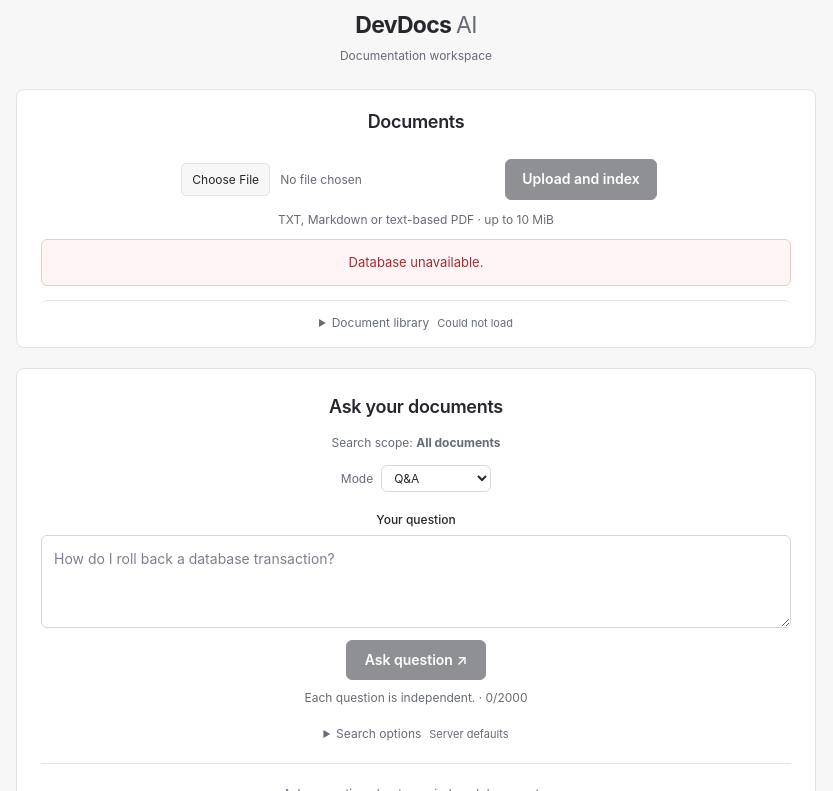
Test case: documentation workspace › recovers from a library load failure
The width and height of the screenshot is (833, 791).
Expected: the message shows "Database unavailable", left=349, top=254, right=483, bottom=270
Click the heading "Document library": x=422, y=322 left=332, top=315, right=513, bottom=330
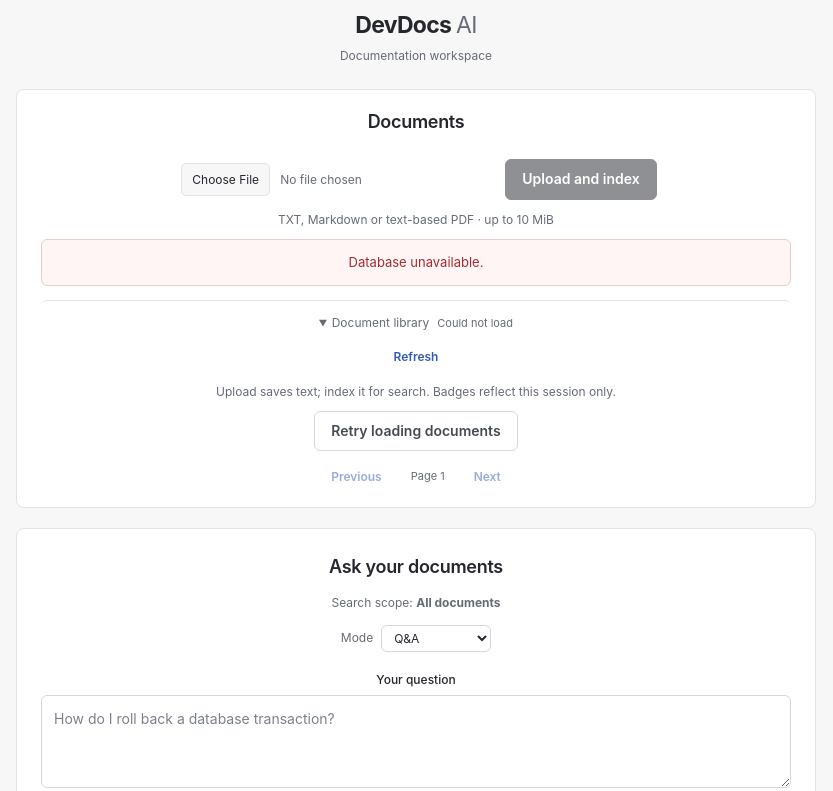
Click the button "Retry loading documents": x=416, y=431 left=314, top=411, right=518, bottom=451
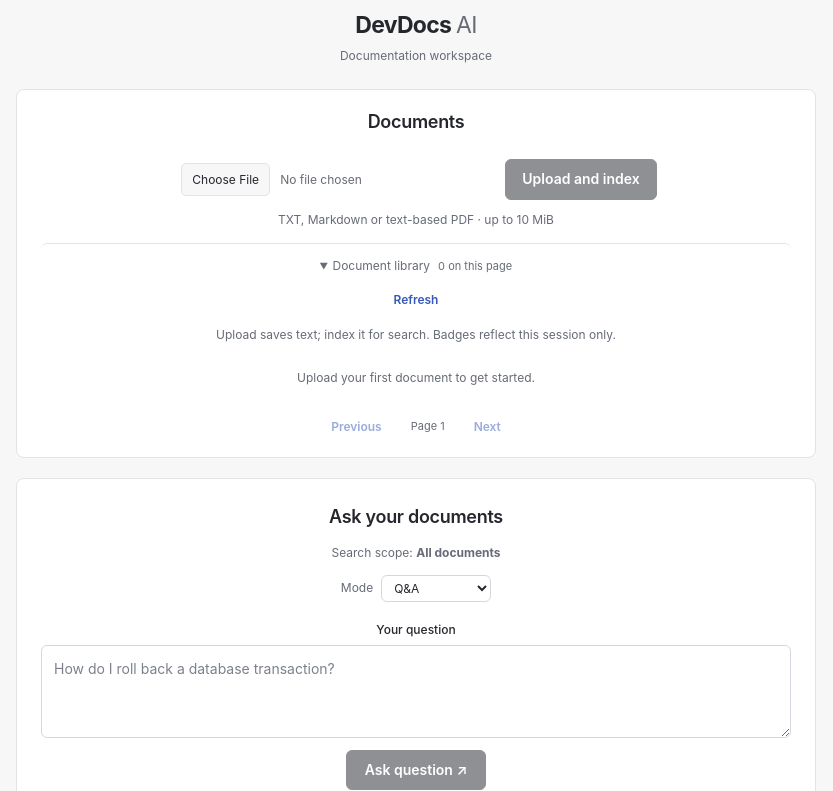
Expected: the text "Upload your first document to get started." is shown, left=297, top=370, right=535, bottom=385
